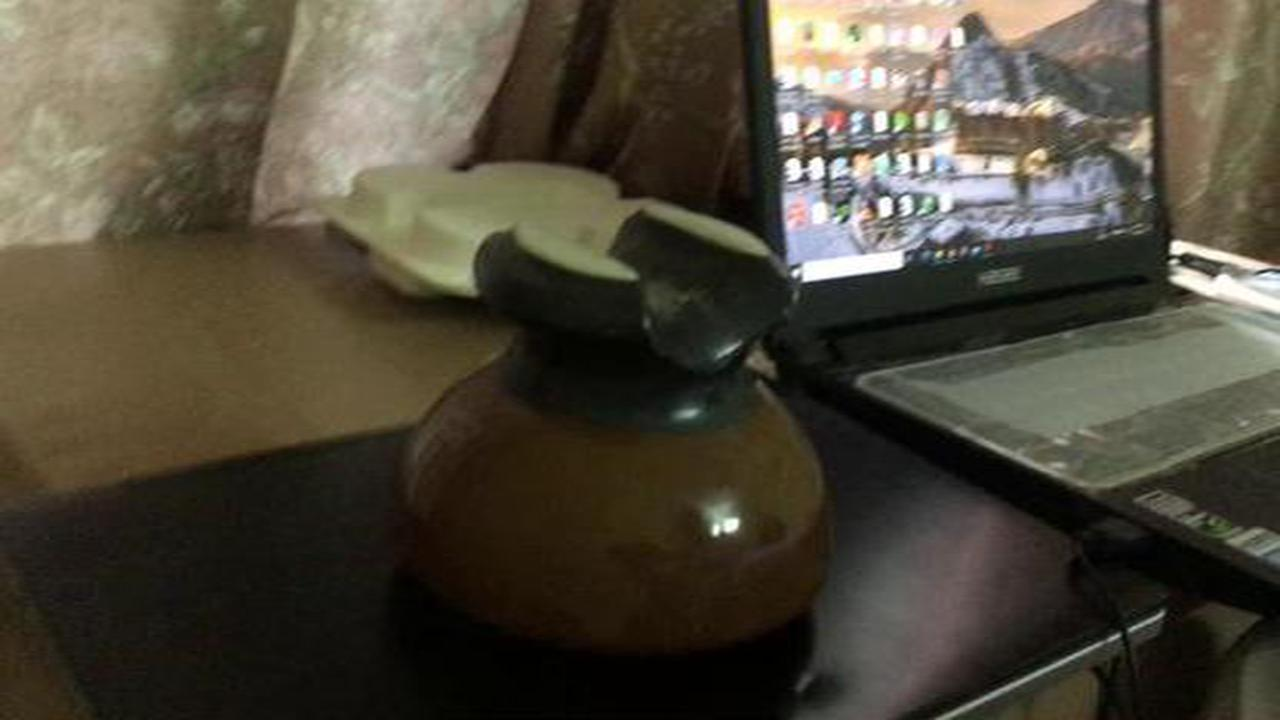insulator_pin: (379, 188, 856, 672)
